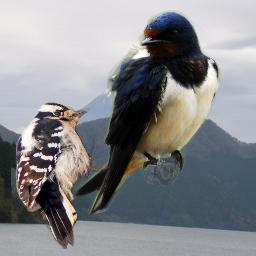Swallow: (72, 10, 221, 219)
Woodpecker: (11, 100, 110, 249)
